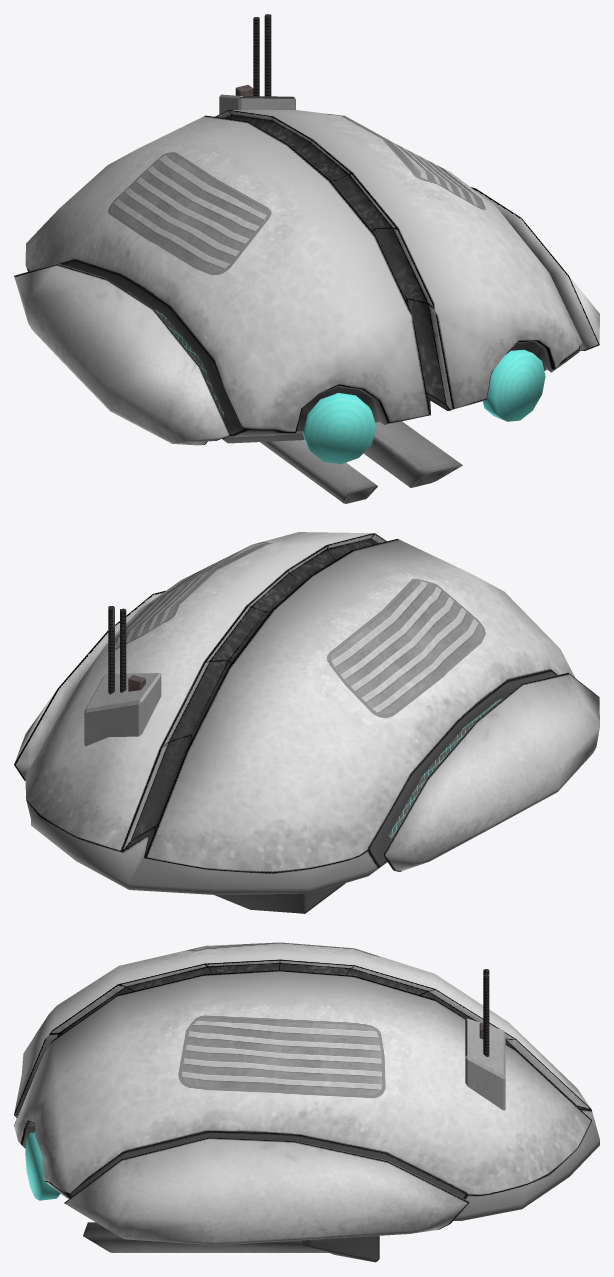
The model's file is bot.fbx.
The picture shows the model from 3 angles, top to bottom: view 1: azimuth 30°, elevation 25°; view 2: azimuth 150°, elevation 25°; view 3: azimuth 270°, elevation 25°; orthographic projection. The views are drawn at different scales.
Parts seen in each view (by area): view 1: Body, Wing.001, Gun, Wing, Back; view 2: Body, Wing.001, Back, Wing, Gun; view 3: Body, Wing, Gun, Back.
Part boxes in pixels (box(x1,y1,x2,y2)): Body: box(25, 110, 582, 464); Wing.001: box(14, 263, 229, 445); Gun: box(260, 421, 462, 503); Wing: box(471, 187, 599, 351); Back: box(219, 14, 295, 114); Body: box(25, 532, 575, 894); Wing.001: box(383, 672, 599, 871); Back: box(84, 606, 161, 746); Wing: box(14, 590, 165, 780); Gun: box(214, 883, 345, 913); Body: box(14, 942, 599, 1220); Wing: box(64, 1137, 469, 1245); Gun: box(83, 1222, 379, 1262); Back: box(465, 969, 505, 1110).
Size of the model in its own units: 188 by 158 by 108.
